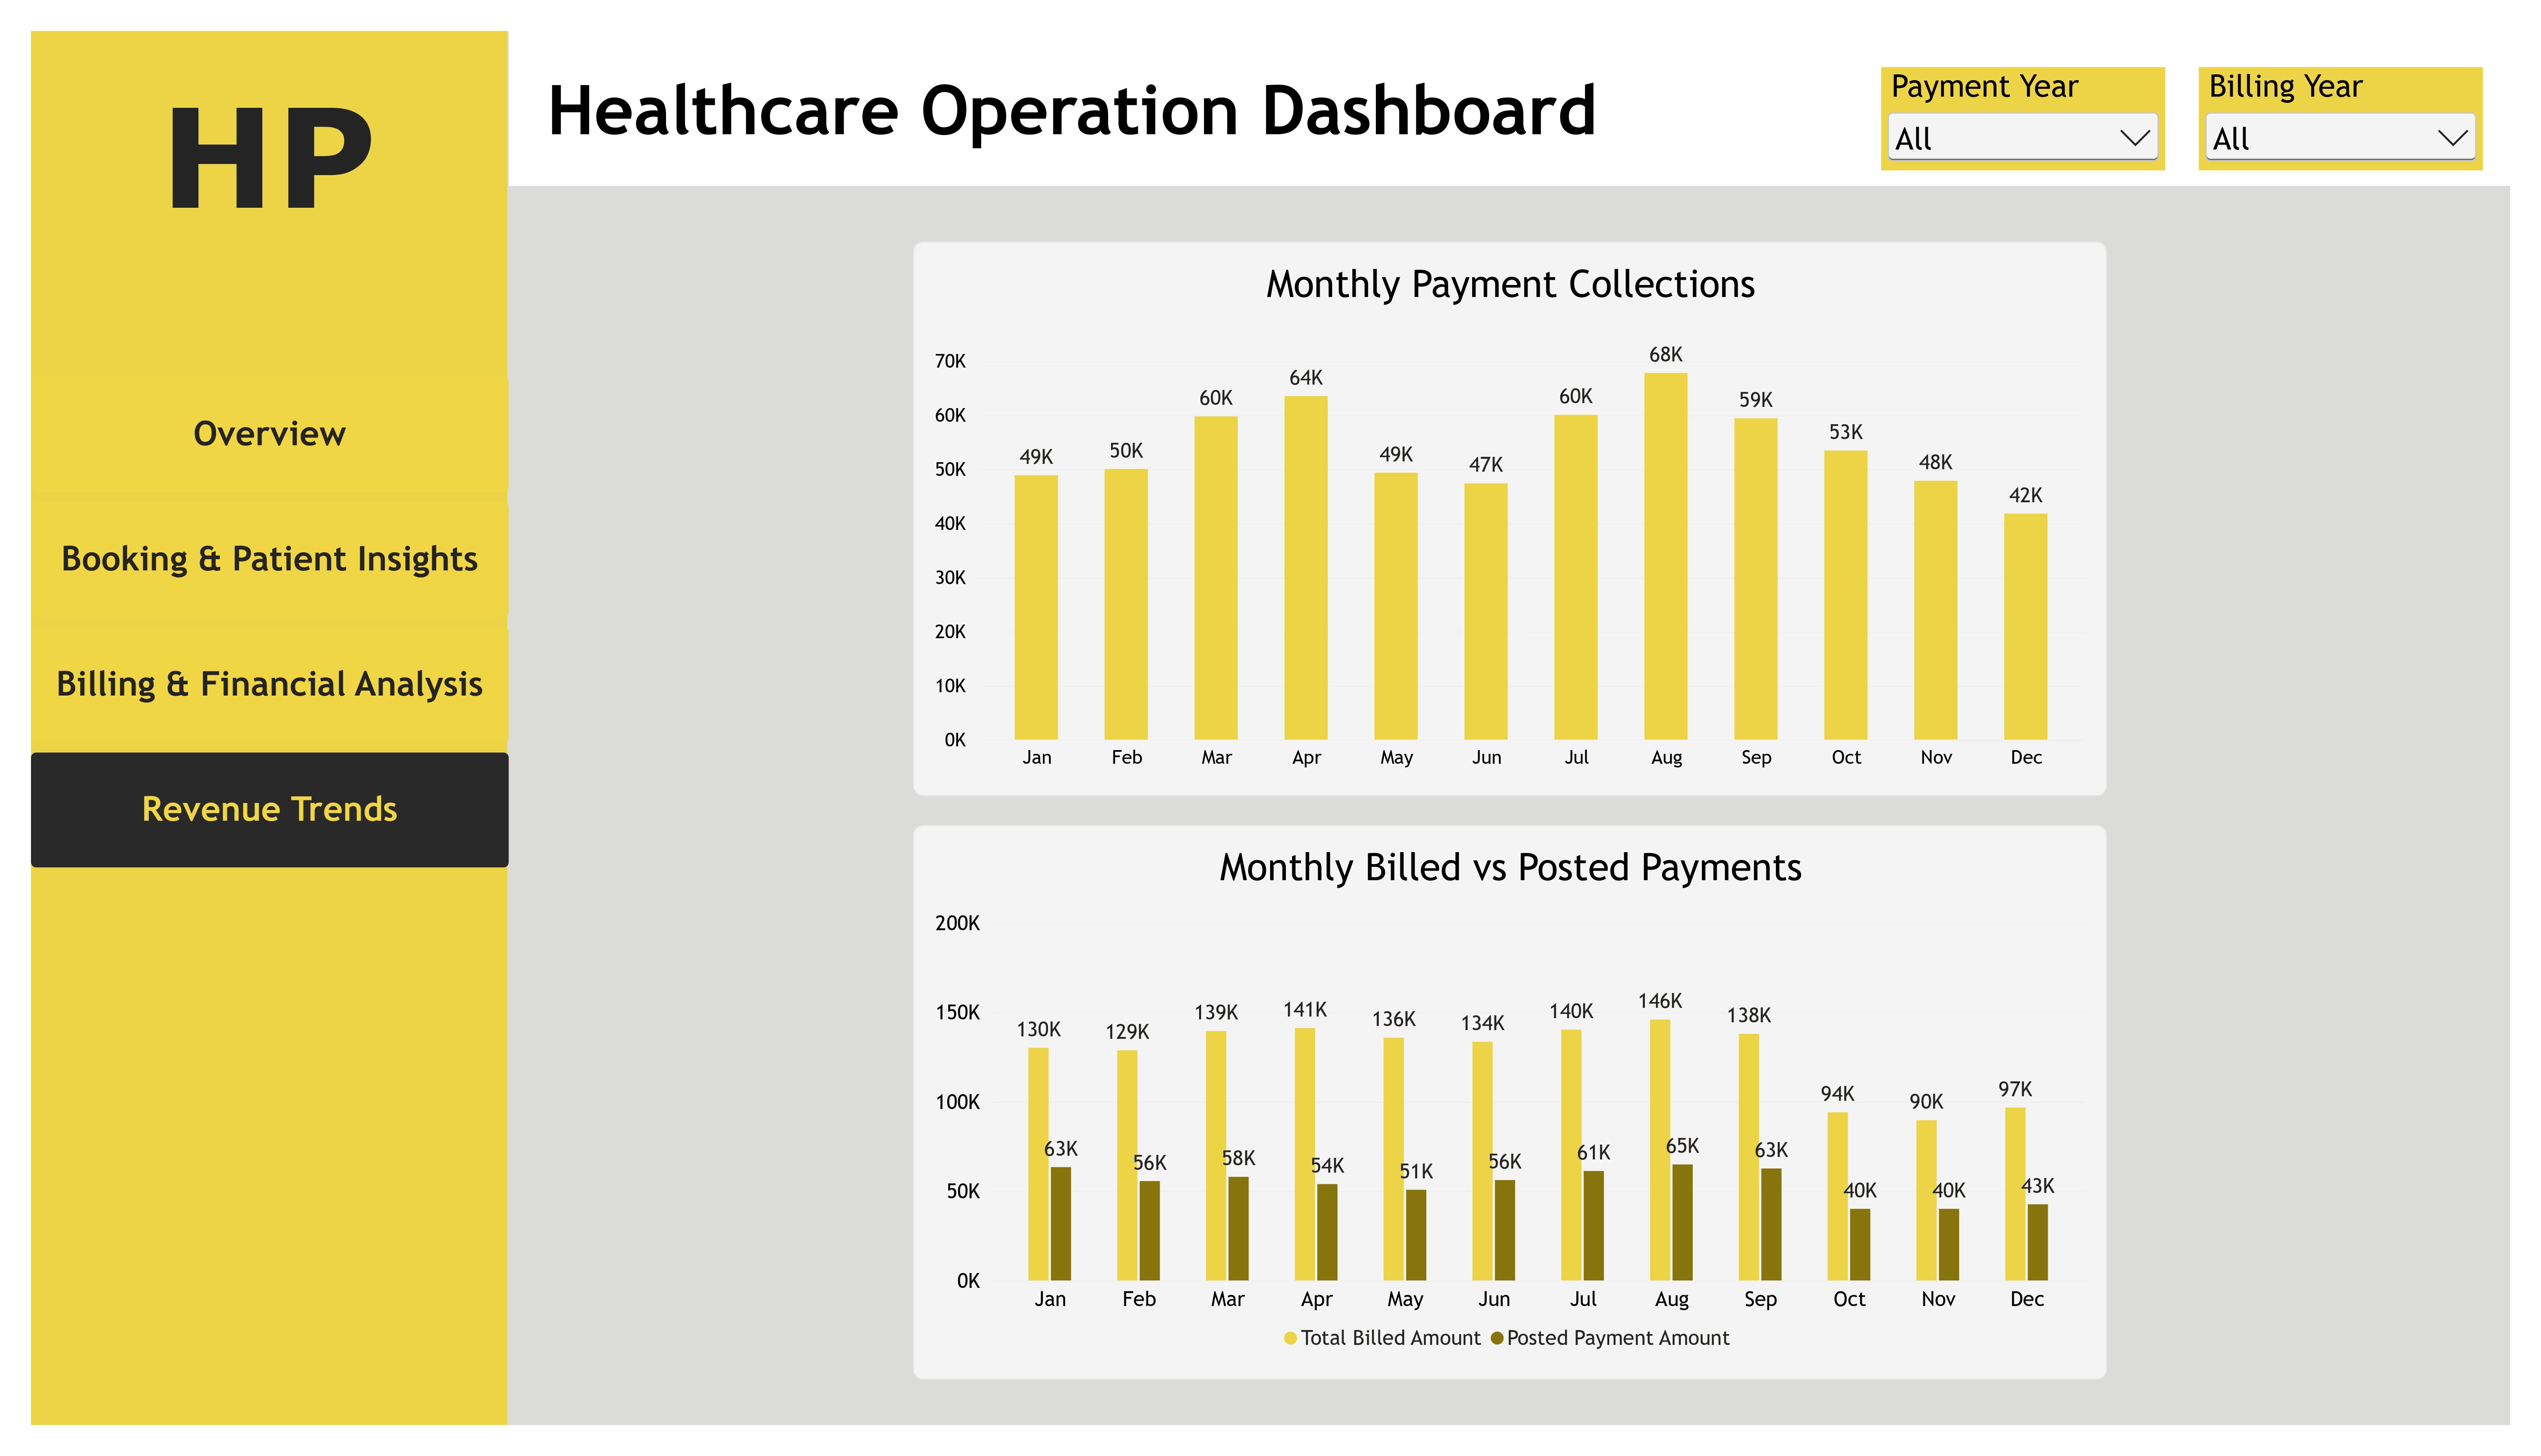

The dashboard page shown, as its layout file describes it:
{"tool":"powerbi","page":{"name":"Revenue Trends","canvas":[1920,1080],"ordinal":3},"visuals":[{"type":"shape","box":[0,0,369.8,1080],"z":0},{"type":"shape","box":[369.2,0,1550.8,1080.8],"z":1000},{"type":"shape","box":[370,0,1550,120],"z":2000},{"type":"textbox","box":[100,30,175,132.5],"z":3000},{"type":"clusteredColumnChart","title":"Monthly Billed vs Posted Payments","fields":{"Category":["healthcare_ops billing.Bill Month Short"],"Y":["healthcare_ops billing.Total Billed Amount","healthcare_ops payments.Posted Payment Amount"]},"box":[682.5,615,925,430],"z":5000},{"type":"slicer","fields":{"Values":["healthcare_ops billing.Bill Year"]},"box":[1678.8,27.5,220,80],"z":6000},{"type":"clusteredColumnChart","title":"Monthly Payment Collections","fields":{"Category":["healthcare_ops payments.Payment Month Short"],"Y":["healthcare_ops payments.Posted Payment Amount"]},"box":[682.5,162.5,925,430],"z":7000},{"type":"slicer","fields":{"Values":["healthcare_ops payments.Payment Year"]},"box":[1432.5,27.5,220,80],"z":8000},{"type":"textbox","box":[370,30,872.5,62.5],"z":9000},{"type":"pageNavigator","box":[0,267.5,370,380],"z":9001}]}

Visuals, with their boxes on the page's 1920x1080 design canvas (x1, y1, x2, y2). These are canvas units, not pixel positions in the 2541x1456 screenshot, which may show the page scaled, cropped or inside an application window:
shape: {"x1": 0, "y1": 0, "x2": 370, "y2": 1080}
shape: {"x1": 369, "y1": 0, "x2": 1920, "y2": 1081}
shape: {"x1": 370, "y1": 0, "x2": 1920, "y2": 120}
textbox: {"x1": 100, "y1": 30, "x2": 275, "y2": 162}
"Monthly Billed vs Posted Payments" clusteredColumnChart: {"x1": 682, "y1": 615, "x2": 1608, "y2": 1045}
slicer - healthcare_ops billing.Bill Year: {"x1": 1679, "y1": 28, "x2": 1899, "y2": 108}
"Monthly Payment Collections" clusteredColumnChart: {"x1": 682, "y1": 162, "x2": 1608, "y2": 592}
slicer - healthcare_ops payments.Payment Year: {"x1": 1432, "y1": 28, "x2": 1652, "y2": 108}
textbox: {"x1": 370, "y1": 30, "x2": 1242, "y2": 92}
pageNavigator: {"x1": 0, "y1": 268, "x2": 370, "y2": 648}
